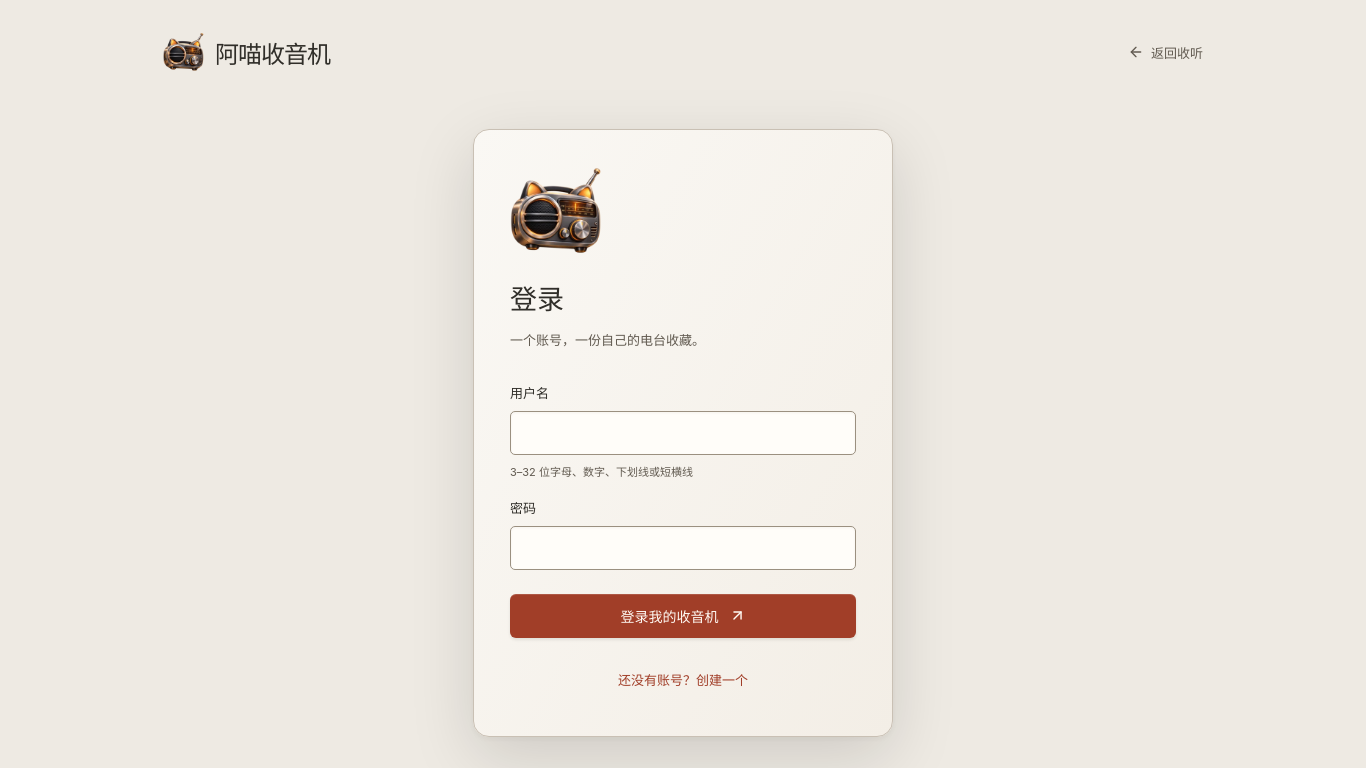
Test case: standalone login page › registration remains on the independent page
Click the button "还没有账号？创建一个" at (683, 680), box left=612, top=658, right=754, bottom=702
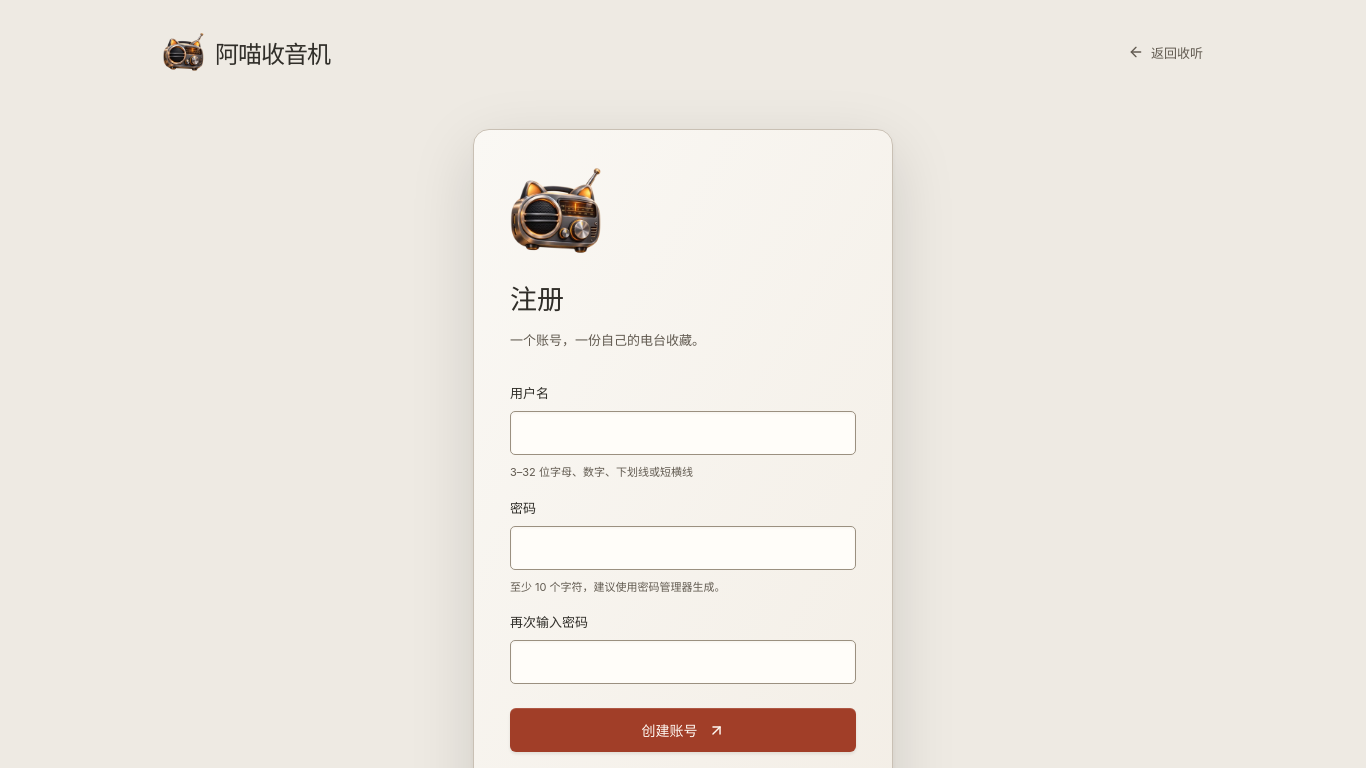
Result: the heading "注册" is shown at left=510, top=283, right=564, bottom=316
Result: the password field labelled "再次输入密码" is shown at left=510, top=640, right=856, bottom=684
